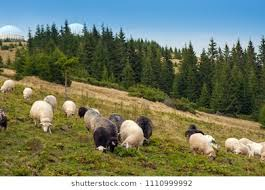sheep: (28, 99, 56, 136), (94, 117, 120, 154), (120, 118, 145, 155), (190, 130, 215, 161), (242, 134, 264, 159), (226, 137, 250, 159), (136, 112, 154, 137), (93, 127, 107, 156), (62, 99, 77, 119), (1, 78, 17, 95), (1, 111, 11, 133), (44, 93, 58, 107), (20, 86, 33, 99), (77, 105, 88, 119)
